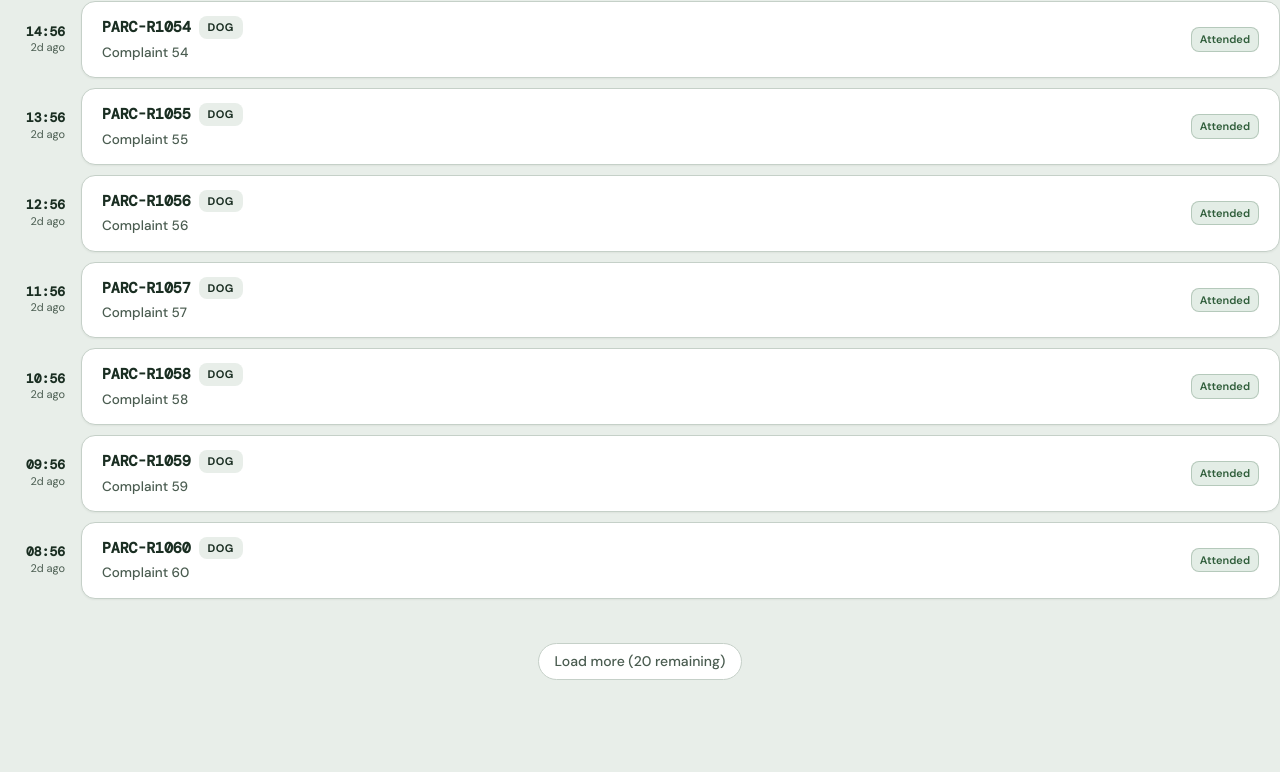
Scenario: ReportsListScreen › renders initial batch of 60 reports and expands when Load more is clicked
(page scrolled)
Expected: the text "PARC-R1060" is shown, x1=102 y1=537 x2=190 y2=559
# Click Load more
Step 1. Click the button "Load more (20 remaining)" → (640, 661), box x1=538 y1=642 x2=742 y2=680
(page scrolled)
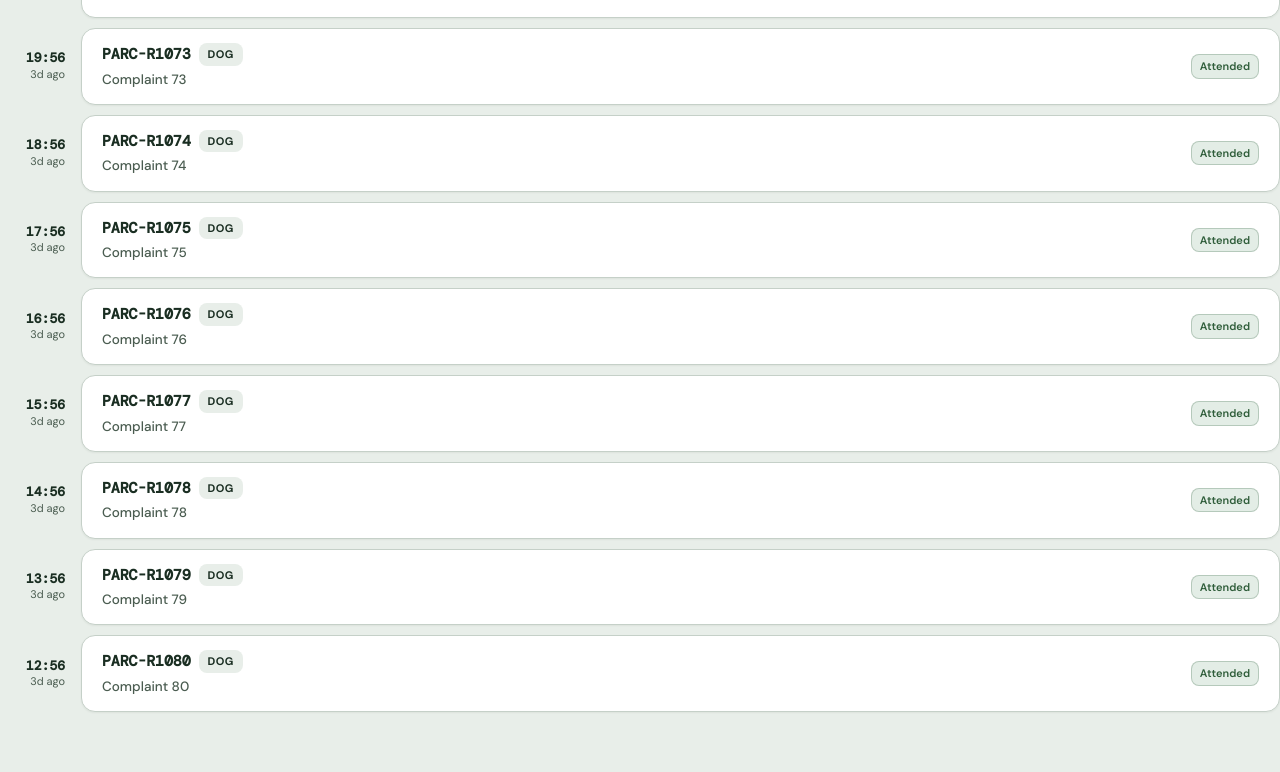
Expected: the text "PARC-R1080" is shown, x1=102 y1=650 x2=190 y2=673
Expected: the button "Load more" is gone
